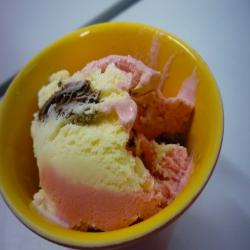icecream: (11, 50, 215, 239)
